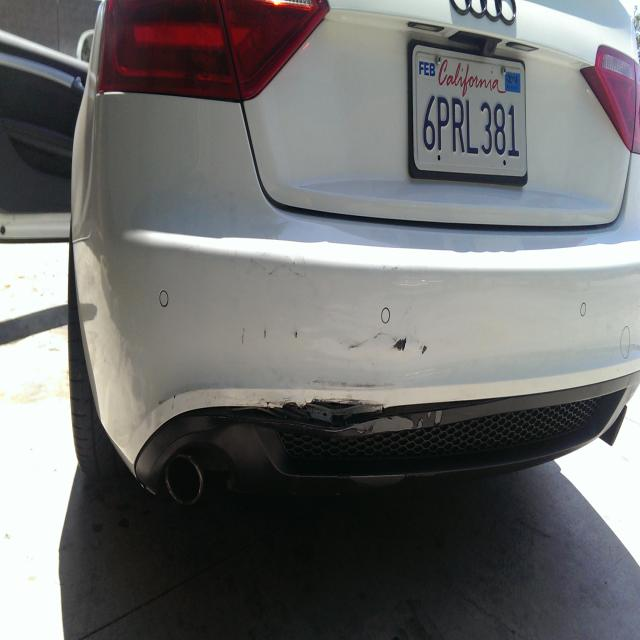scratch: (157, 255, 444, 438)
tear: (265, 396, 386, 428)
